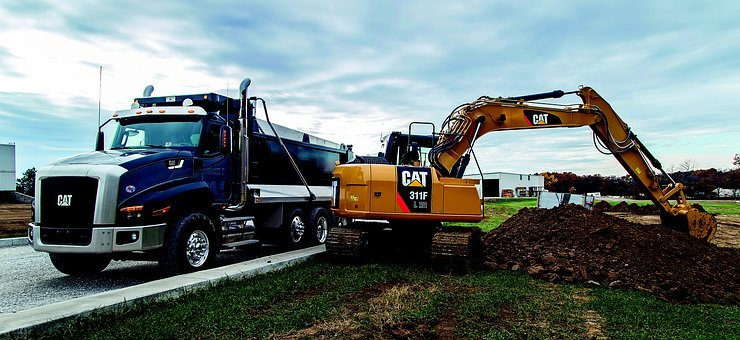excavator: (342, 93, 724, 267)
truck: (23, 84, 355, 279)
